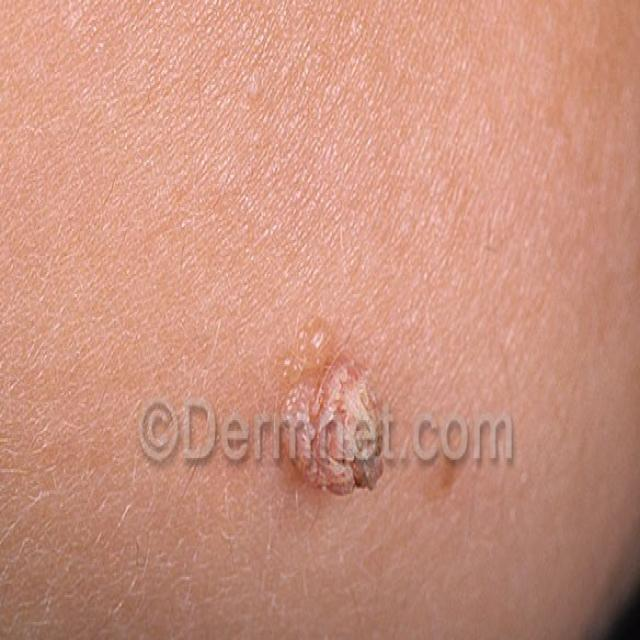Warts: (278, 313, 408, 516)
